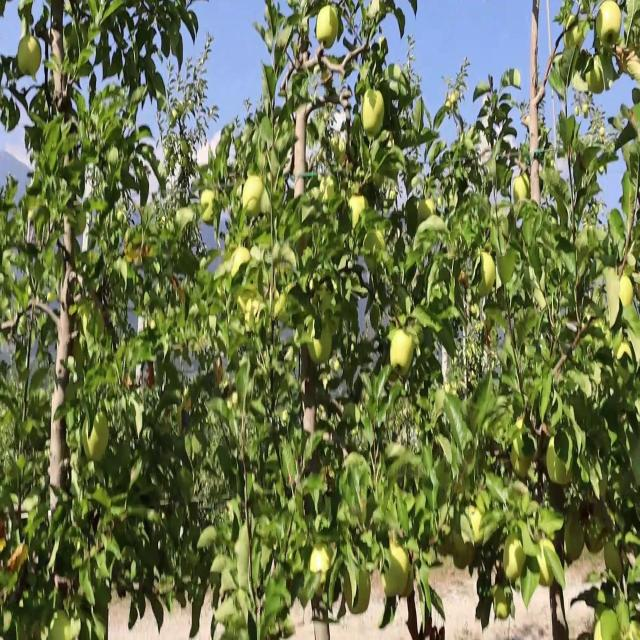apple: (384, 547, 411, 599), (84, 412, 109, 462), (596, 7, 624, 50), (16, 35, 43, 78), (364, 92, 387, 140), (504, 540, 527, 585), (316, 7, 340, 50), (368, 575, 387, 628), (392, 334, 416, 375), (348, 575, 371, 617), (244, 177, 265, 220), (476, 255, 496, 299), (312, 547, 331, 588), (540, 540, 556, 588), (588, 63, 606, 98), (312, 334, 332, 364), (232, 248, 252, 277), (348, 199, 367, 229), (200, 191, 216, 226), (500, 255, 517, 284), (124, 234, 141, 263), (512, 177, 530, 203), (620, 277, 635, 308), (472, 504, 483, 546), (408, 199, 419, 235), (420, 199, 436, 222), (388, 156, 403, 180), (616, 341, 632, 363), (496, 597, 511, 619), (628, 56, 640, 82), (372, 170, 384, 192), (376, 227, 386, 251), (148, 362, 156, 391)
